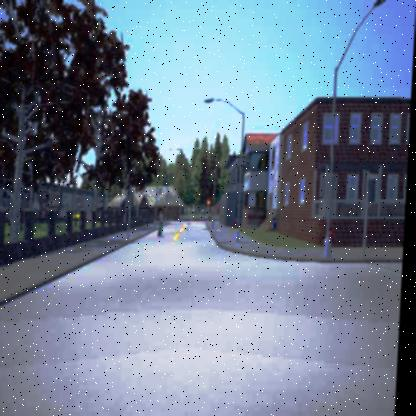bike: (157, 209, 169, 237)
